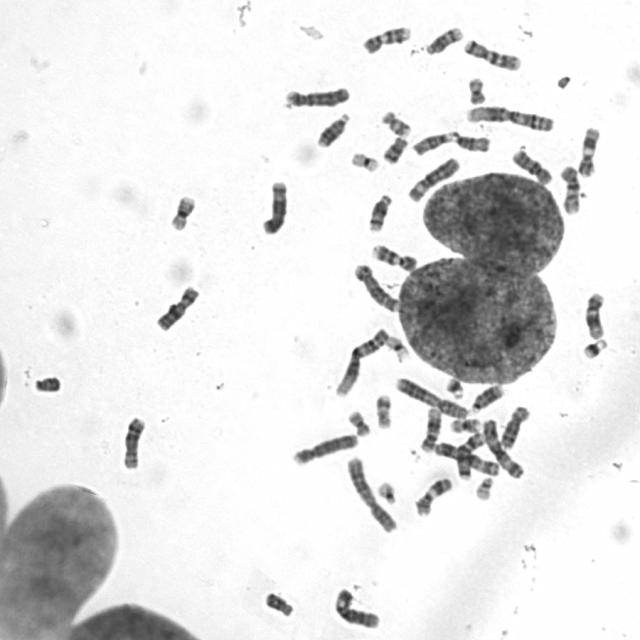A1: (330, 323, 390, 398), (463, 100, 557, 133)
A2: (342, 451, 400, 534), (392, 372, 470, 420)
A3: (478, 414, 526, 479), (430, 436, 503, 477)
B4: (288, 428, 361, 467), (279, 81, 352, 109)
B5: (349, 258, 402, 313), (257, 175, 291, 236)
C10: (508, 143, 554, 185), (556, 160, 583, 216)
C11: (411, 472, 455, 518), (574, 122, 602, 178)
C12: (580, 287, 608, 340), (416, 402, 444, 453)
C6: (404, 151, 462, 204), (329, 583, 384, 630)
C7: (459, 34, 523, 72), (454, 427, 486, 481)
C8: (117, 410, 148, 470), (498, 401, 532, 450)
C9: (358, 20, 414, 54), (368, 239, 420, 273)
D13: (312, 108, 352, 148), (467, 379, 506, 414)
D14: (421, 21, 465, 56), (364, 188, 396, 234)
D15: (409, 127, 455, 156), (447, 126, 492, 154)
E16: (164, 189, 198, 232), (446, 412, 482, 434)
E17: (377, 106, 413, 138), (371, 389, 395, 430)
E18: (260, 586, 297, 618), (378, 130, 410, 164)
F19: (346, 146, 382, 174), (381, 329, 411, 362)
F20: (344, 404, 374, 438), (463, 72, 488, 106)
G21: (578, 334, 610, 359), (441, 372, 466, 400)
G22: (470, 472, 496, 501), (374, 476, 398, 506)
X: (152, 280, 202, 332)
Y: (30, 370, 63, 394)
